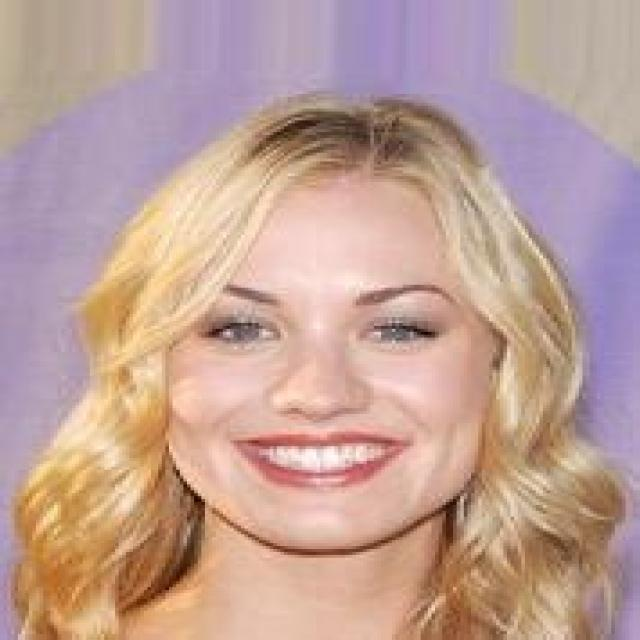nomask: (86, 117, 626, 558)
